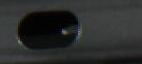holes: (15, 9, 81, 50)
